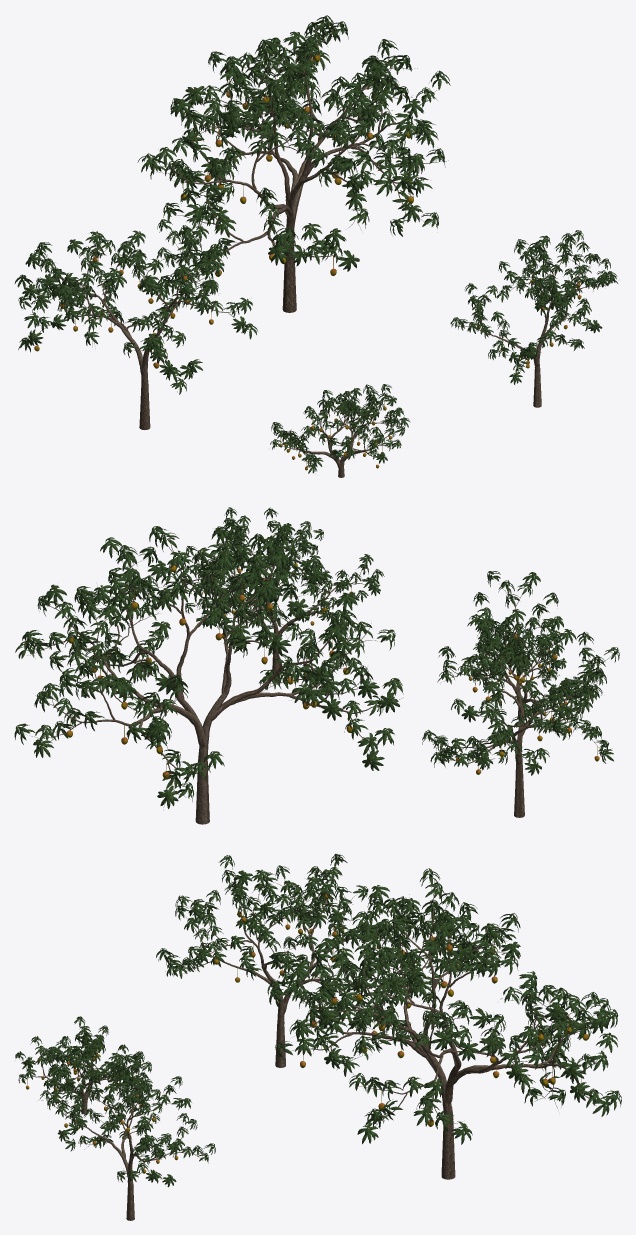
The model's file is mango_tree.gltf.
3 views of the same model, one above another, from view 1: azimuth 30°, elevation 25°; view 2: azimuth 150°, elevation 25°; view 3: azimuth 270°, elevation 25° (orthographic).
Parts seen in each view (by area): view 1: foliage.005_11, foliage.004_8, foliage.003_5, structure.005_10, foliage.002_2, structure.004_7, structure.003_4, structure.002_1, fruit.005_12; view 2: foliage.005_11, foliage.004_8, structure.005_10, foliage.003_5, foliage.002_2, structure.004_7, fruit.005_12, structure.003_4, structure.002_1; view 3: foliage.005_11, foliage.004_8, foliage.003_5, structure.005_10, foliage.002_2, structure.004_7, structure.003_4, fruit.005_12, structure.002_1.
Part boxes in pixels (<box>): foliage.005_11: <box>137,15,450,295</box>; foliage.004_8: <box>14,212,257,394</box>; foliage.003_5: <box>450,230,617,384</box>; structure.005_10: <box>153,21,448,312</box>; foliage.002_2: <box>270,384,410,473</box>; structure.004_7: <box>24,236,247,429</box>; structure.003_4: <box>451,238,615,407</box>; structure.002_1: <box>272,393,403,477</box>; fruit.005_12: <box>180,45,413,276</box>; foliage.005_11: <box>14,520,403,808</box>; foliage.004_8: <box>422,571,619,775</box>; structure.005_10: <box>27,532,403,824</box>; foliage.003_5: <box>169,507,384,629</box>; foliage.002_2: <box>461,617,580,721</box>; structure.004_7: <box>430,585,619,817</box>; fruit.005_12: <box>66,555,352,778</box>; structure.003_4: <box>180,518,370,682</box>; structure.002_1: <box>469,643,573,718</box>; foliage.005_11: <box>267,868,621,1144</box>; foliage.004_8: <box>156,853,418,1037</box>; foliage.003_5: <box>39,1051,215,1187</box>; structure.005_10: <box>287,879,611,1179</box>; foliage.002_2: <box>15,1016,143,1105</box>; structure.004_7: <box>165,874,401,1067</box>; structure.003_4: <box>38,1051,203,1220</box>; fruit.005_12: <box>300,932,588,1126</box>; structure.002_1: <box>25,1035,134,1114</box>.
Bounding box in the file's own units: 134 × 70.77 × 139.
3 materials, 3 textured.
